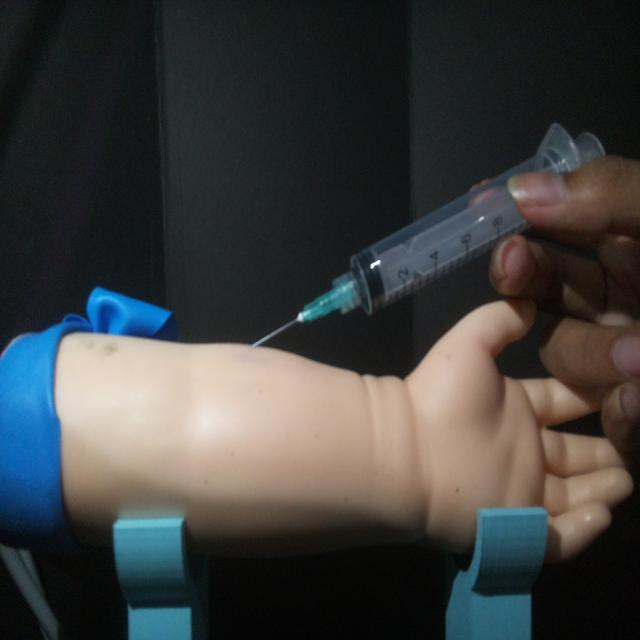29deg: (246, 120, 608, 352)
